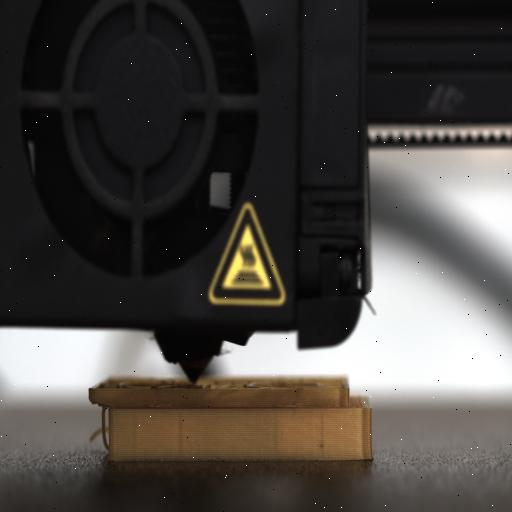layer_shift: (88, 397, 374, 417)
